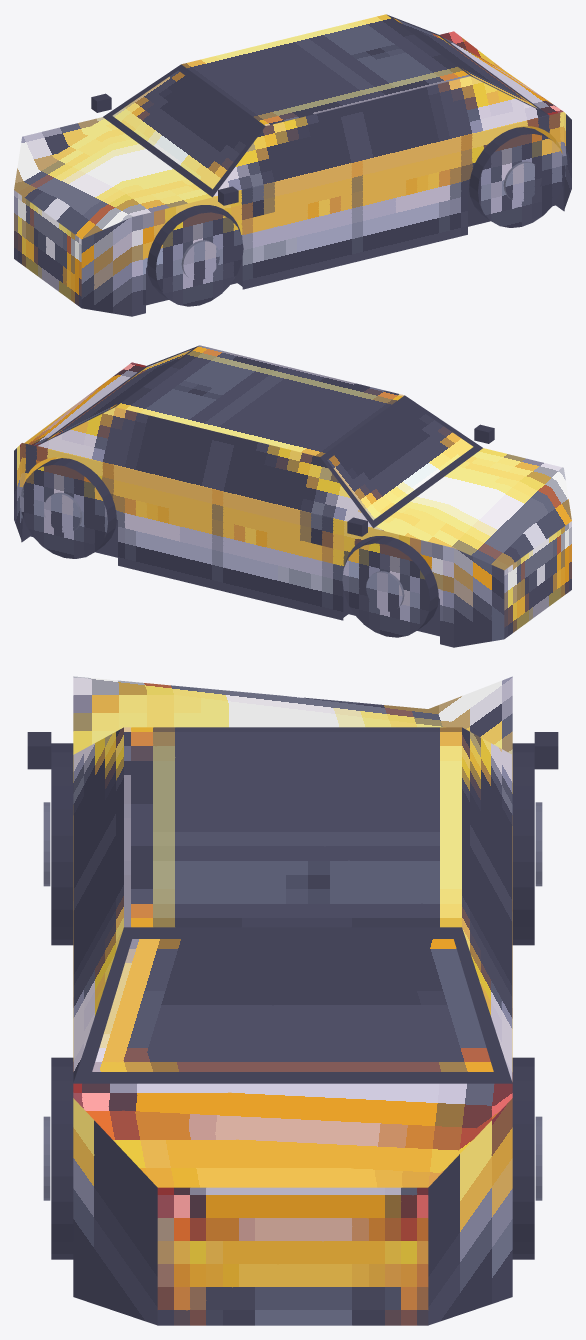
File: car-18-v1.glb
The picture shows the model from 3 angles, top to bottom: view 1: azimuth 30°, elevation 25°; view 2: azimuth 150°, elevation 25°; view 3: azimuth 270°, elevation 25°; orthographic projection. The views are drawn at different scales.
Parts seen in each view (by area): view 1: Passenger-body-west, Roof, Cabin-windows-west, Hood, Windshield-glass, Tire_RL, Tire_FL, Front-fascia, Front-corner--1, Windshield-frame, Trunk, Rear-window-glass (+7 smaller); view 2: Passenger-body-east, Roof, Cabin-windows-east, Hood, Windshield-glass, Tire_RR, Tire_FR, Front-fascia, Front-corner-1, Windshield-frame, Trunk, Rear-window-glass (+7 smaller); view 3: Roof, Rear-window-glass, Trunk, Rear-fascia, Hood, Rear-corner-1, Rear-corner--1, Cabin-windows-east, Cabin-windows-west, Rear-window-frame, Tire_FL, Tire_FR (+4 smaller).
Part boxes in pixels (bbox=[...]): Passenger-body-west: bbox=[132, 112, 564, 316]; Roof: bbox=[181, 14, 470, 125]; Cabin-windows-west: bbox=[213, 76, 548, 197]; Hood: bbox=[14, 117, 211, 239]; Windshield-glass: bbox=[112, 70, 258, 189]; Tire_RL: bbox=[469, 127, 565, 227]; Tire_FL: bbox=[147, 205, 243, 306]; Front-fascia: bbox=[14, 190, 81, 307]; Front-corner--1: bbox=[81, 217, 131, 316]; Windshield-frame: bbox=[103, 64, 265, 197]; Trunk: bbox=[440, 31, 563, 115]; Rear-window-glass: bbox=[394, 18, 537, 108]; Passenger-body-east: bbox=[21, 443, 453, 647]; Roof: bbox=[115, 345, 404, 456]; Cabin-windows-east: bbox=[37, 407, 372, 528]; Hood: bbox=[374, 448, 571, 570]; Windshield-glass: bbox=[327, 401, 473, 520]; Tire_RR: bbox=[20, 458, 116, 558]; Tire_FR: bbox=[342, 536, 438, 637]; Front-fascia: bbox=[504, 521, 571, 638]; Front-corner-1: bbox=[454, 548, 504, 647]; Windshield-frame: bbox=[320, 395, 482, 528]; Trunk: bbox=[24, 362, 145, 446]; Rear-window-glass: bbox=[48, 349, 191, 439]; Roof: bbox=[124, 727, 461, 927]; Rear-window-glass: bbox=[92, 939, 493, 1071]; Trunk: bbox=[73, 1083, 512, 1187]; Rear-fascia: bbox=[157, 1187, 428, 1325]; Hood: bbox=[73, 676, 512, 754]; Rear-corner-1: bbox=[428, 1098, 512, 1325]; Rear-corner--1: bbox=[73, 1098, 157, 1325]; Cabin-windows-east: bbox=[462, 727, 512, 1082]; Cabin-windows-west: bbox=[73, 727, 123, 1082]; Rear-window-frame: bbox=[73, 927, 512, 1083]; Tire_FL: bbox=[51, 743, 73, 945]; Tire_FR: bbox=[512, 743, 534, 945].
Size of the model in its own units: 67 by 19 by 31.4.
Materials: 1 (1 with a texture image).
